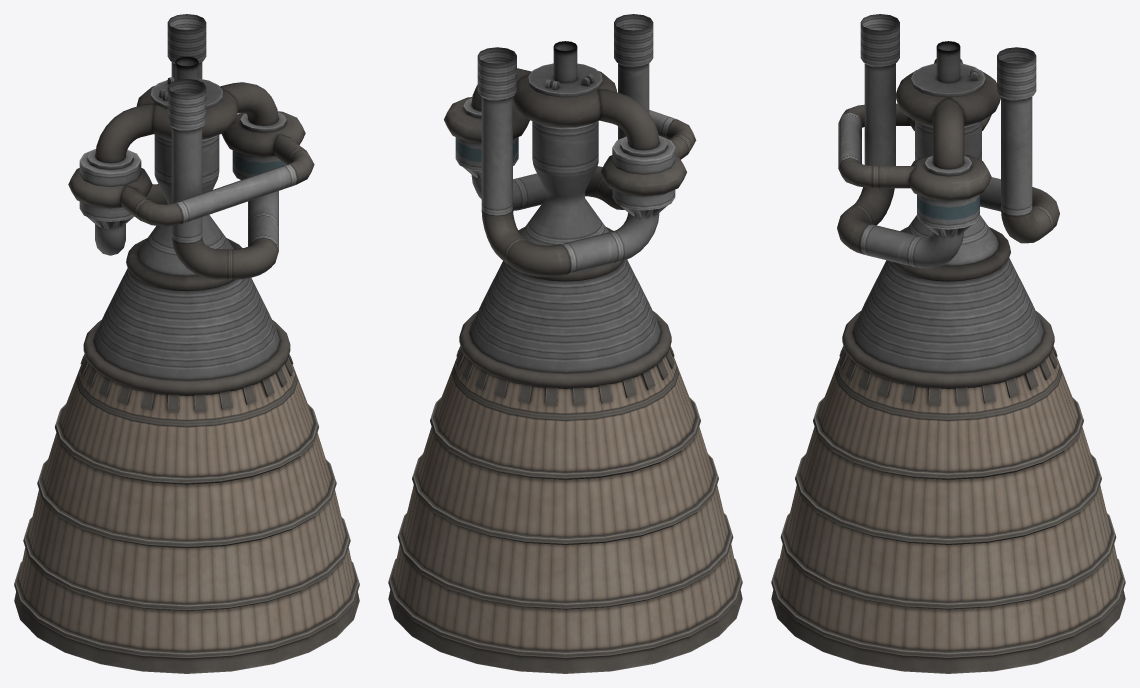
Rendered from le7_nozzle.obj.
3 views of the same model, side by side, from view 1: azimuth 30°, elevation 25°; view 2: azimuth 150°, elevation 25°; view 3: azimuth 270°, elevation 25° (orthographic). The views are drawn at different scales.
Visible parts, largest first — view 1: le7; view 2: le7; view 3: le7.
Boxes of the visible parts, x1,y1,x2,y2 form: le7: (14, 14, 359, 673); le7: (388, 14, 742, 673); le7: (771, 14, 1125, 673).
Size of the model in its own units: 1.13 by 1.96 by 1.13.
1 material, 1 textured.
